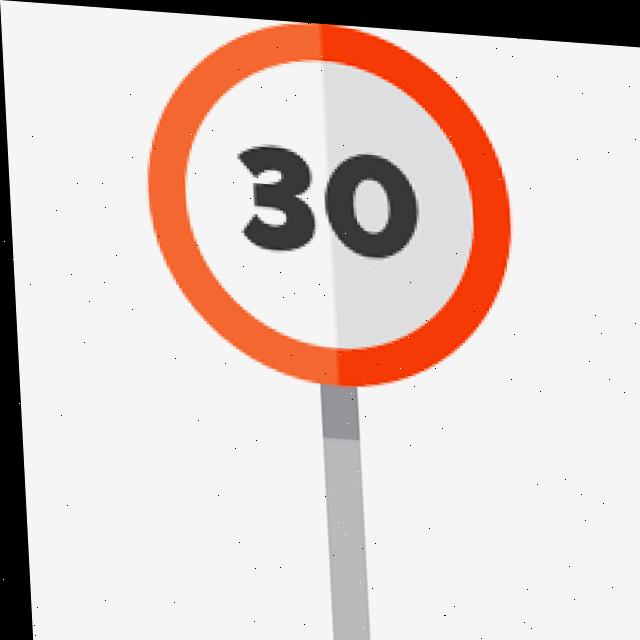Speed limit 30: (135, 9, 519, 394)
